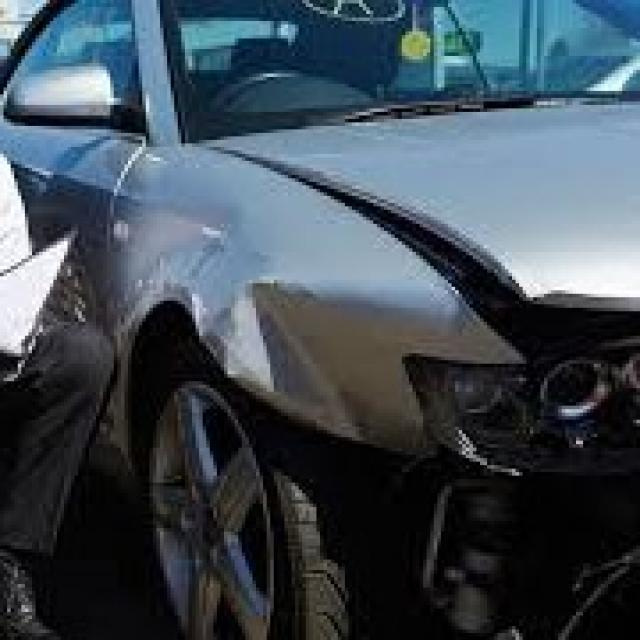moderate: (161, 90, 640, 626)
